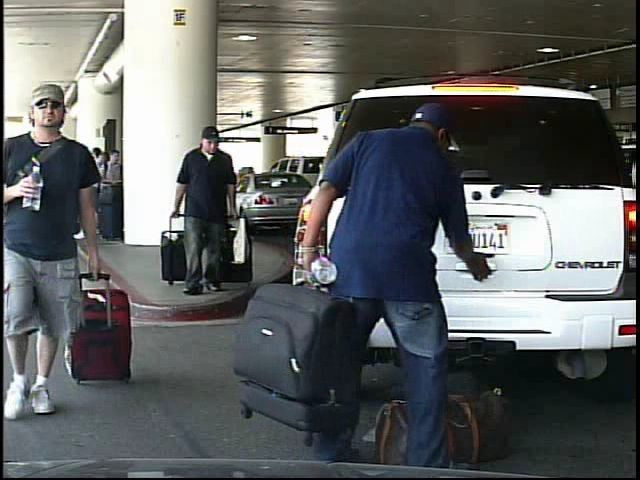person: (285, 75, 469, 471), (3, 89, 116, 431), (165, 127, 248, 297)
